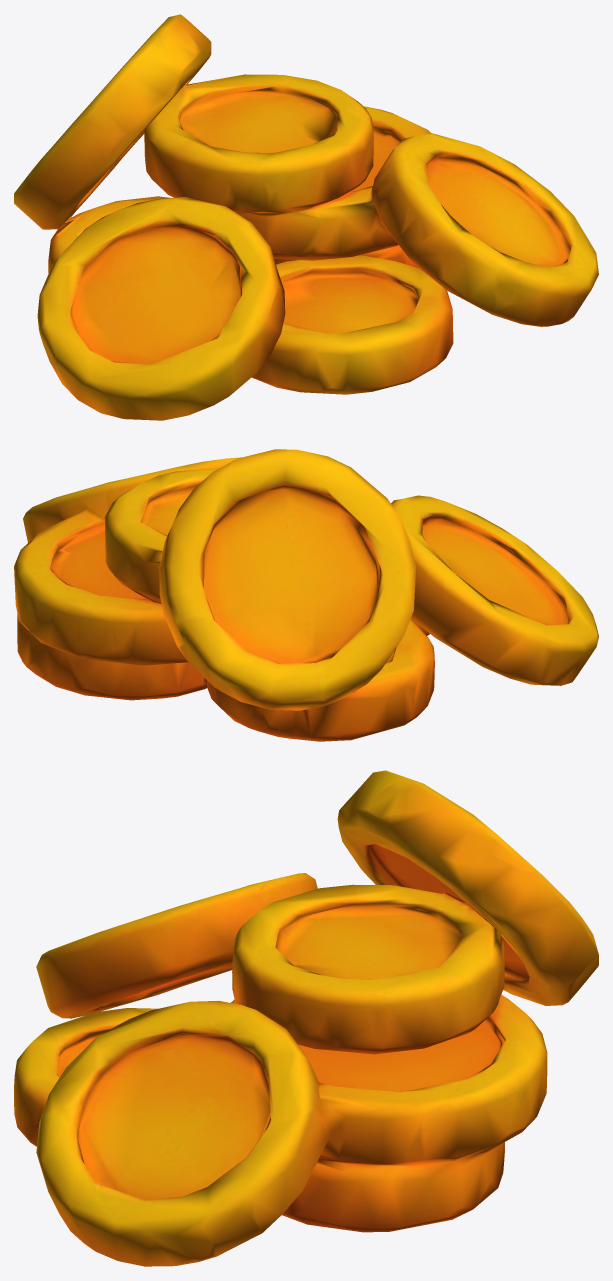
Rendered from loot_coins-Cs5XJfrE.glb.
3 views of the same model, one above another, from view 1: azimuth 30°, elevation 25°; view 2: azimuth 150°, elevation 25°; view 3: azimuth 270°, elevation 25° (orthographic). The views are drawn at different scales.
Visible parts, largest first — view 1: tripo_node_60320e2b-9c32-4690-8bfd-746f201c6e33; view 2: tripo_node_60320e2b-9c32-4690-8bfd-746f201c6e33; view 3: tripo_node_60320e2b-9c32-4690-8bfd-746f201c6e33.
Part boxes in pixels (box(x1,y1,x2,y2)): tripo_node_60320e2b-9c32-4690-8bfd-746f201c6e33: box(14, 14, 598, 420); tripo_node_60320e2b-9c32-4690-8bfd-746f201c6e33: box(14, 449, 598, 741); tripo_node_60320e2b-9c32-4690-8bfd-746f201c6e33: box(14, 770, 598, 1266).
Bounding box in the file's own units: 0.9 × 0.4242 × 0.7194.
1 material, 1 textured.
